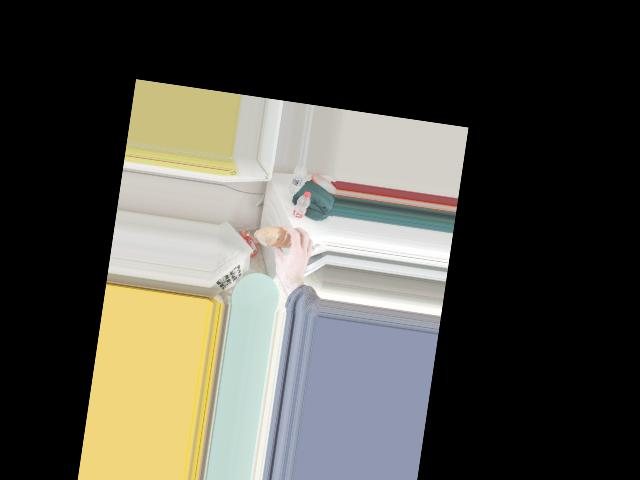sweet_potato: (261, 224, 295, 249)
